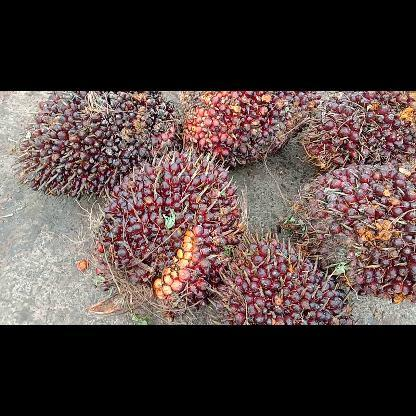Kurang masak: (94, 148, 248, 324), (283, 160, 415, 308), (13, 91, 182, 201), (209, 230, 358, 324), (178, 90, 322, 170), (302, 91, 414, 175)
